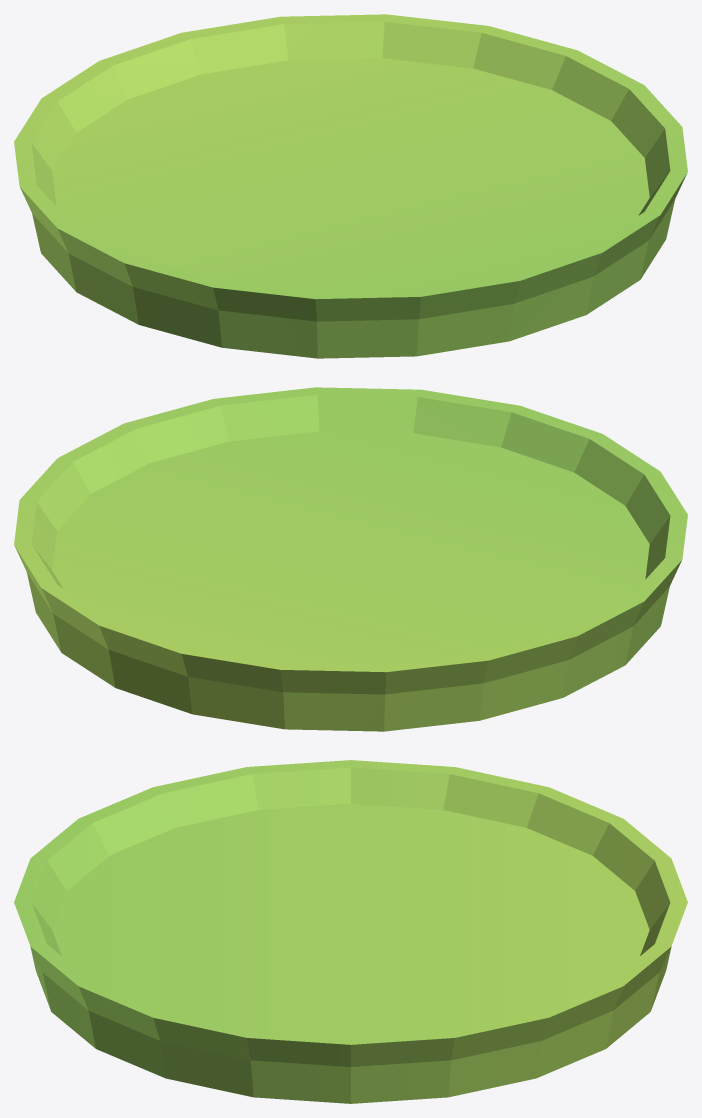
File: PlantPot_23.fbx
3 views of the same model, one above another, from view 1: azimuth 30°, elevation 25°; view 2: azimuth 150°, elevation 25°; view 3: azimuth 270°, elevation 25° (orthographic).
Parts seen in each view (by area): view 1: PlantPot_23; view 2: PlantPot_23; view 3: PlantPot_23.
Part boxes in pixels (<box>): PlantPot_23: <box>14,14,687,358</box>; PlantPot_23: <box>14,387,687,731</box>; PlantPot_23: <box>14,760,687,1103</box>.
Size of the model in its own units: 16.44 by 1.84 by 16.44.
